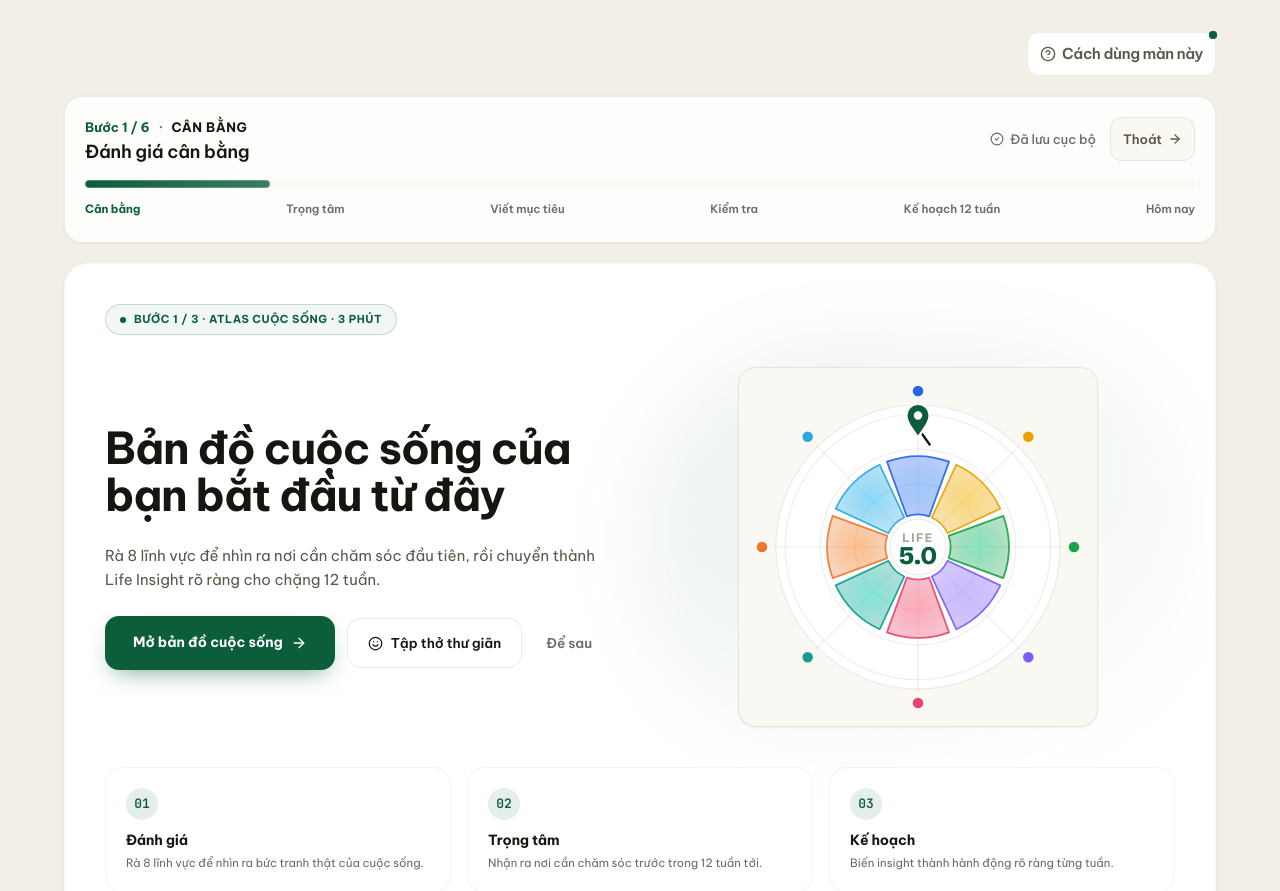
Onboarding › uses a clear primary CTA and starts the assessment at the top of the page
The image size is (1280, 891).
Click the button "Mở bản đồ cuộc sống". click: (220, 643)
box: [105, 616, 335, 670]
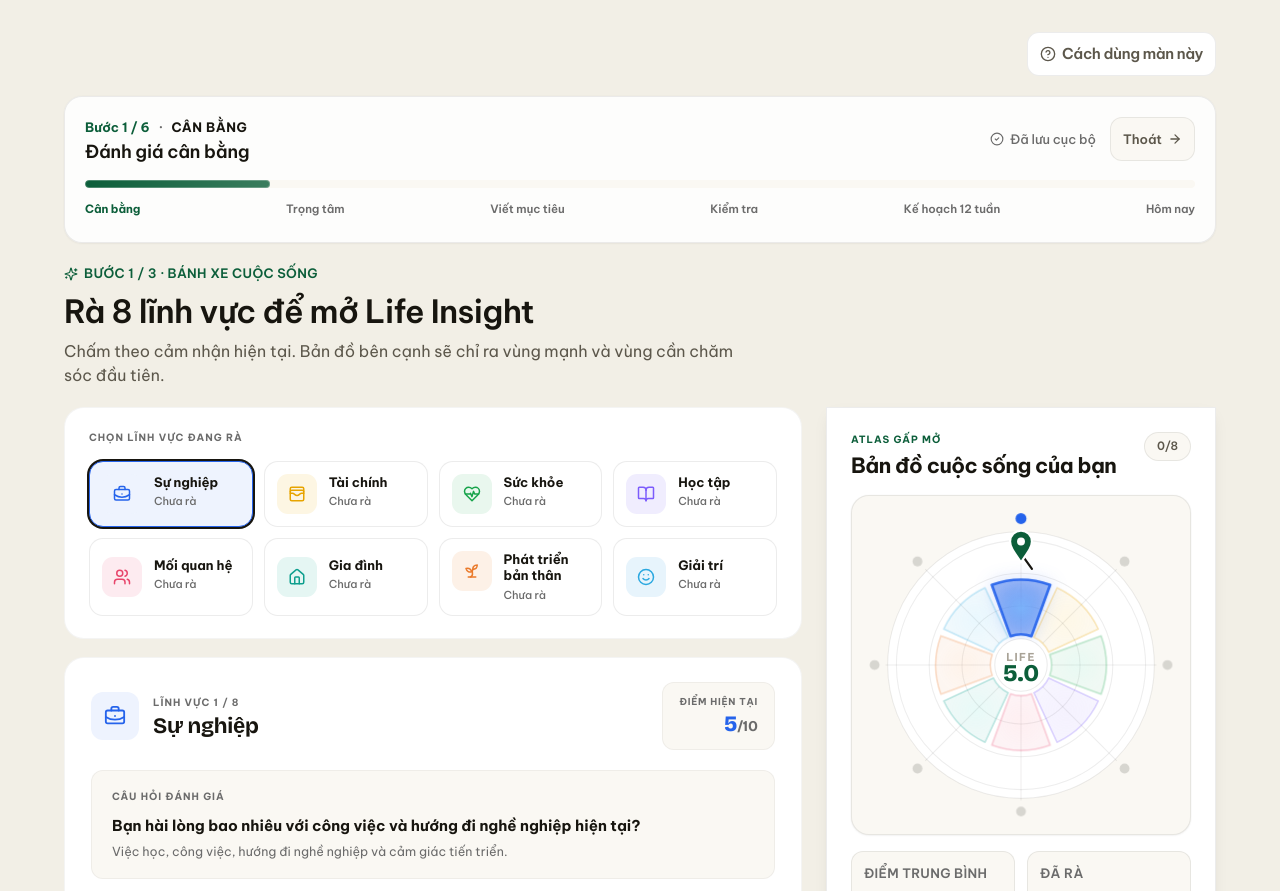
Expected: the heading "Rà 8 lĩnh vực để mở Life Insight" is shown, [64, 291, 534, 331]
